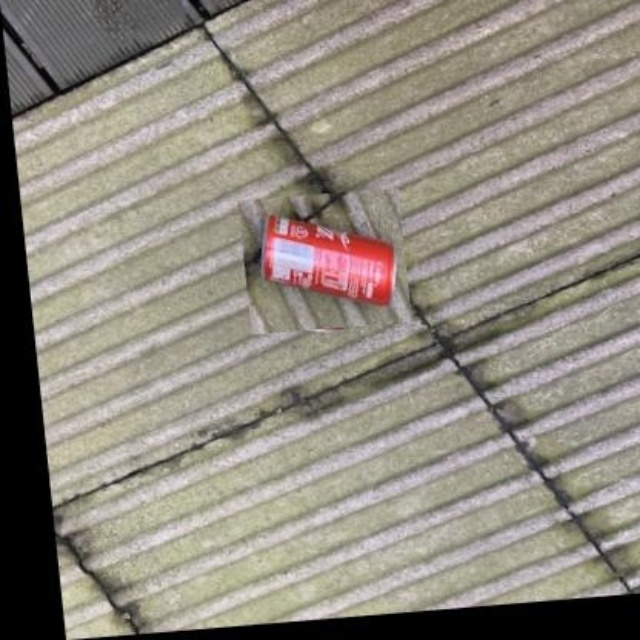trash: (262, 215, 394, 303)
